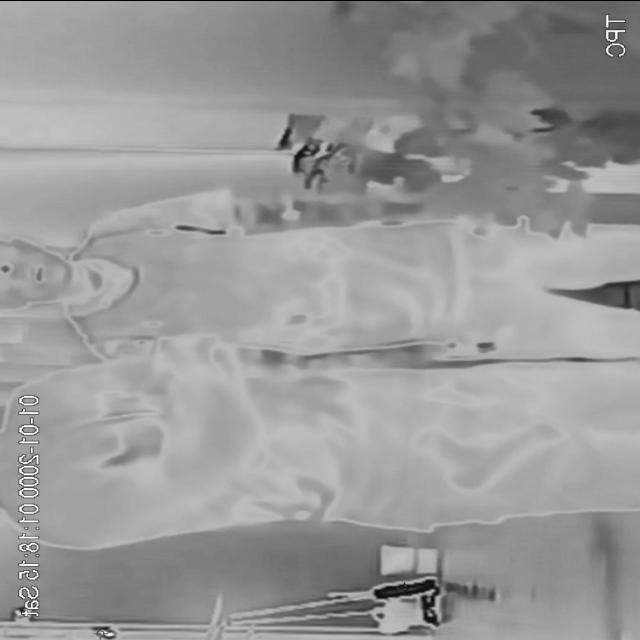Weapon: (402, 404, 570, 504)
